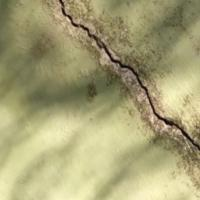crack: (59, 0, 199, 194)
